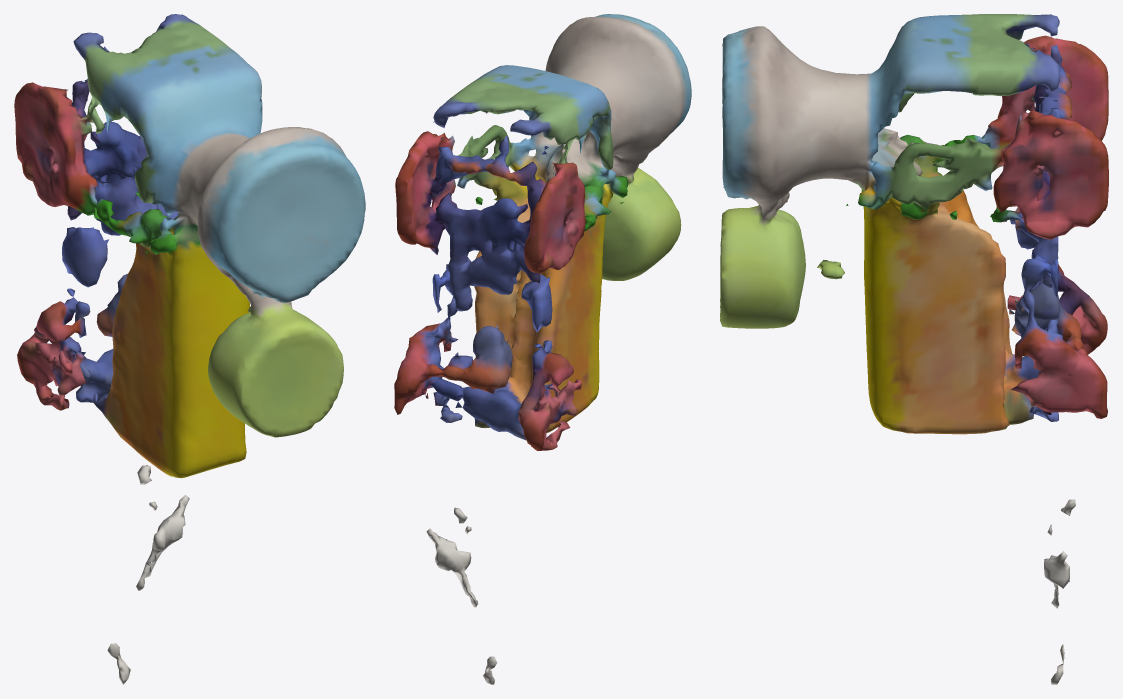
File: train.glb
3 renders of one model, left to right at view 1: azimuth 30°, elevation 25°; view 2: azimuth 150°, elevation 25°; view 3: azimuth 270°, elevation 25°, orthographic. The views are drawn at different scales.
Size of the model in its own units: 0.2769 by 1 by 0.5402.
